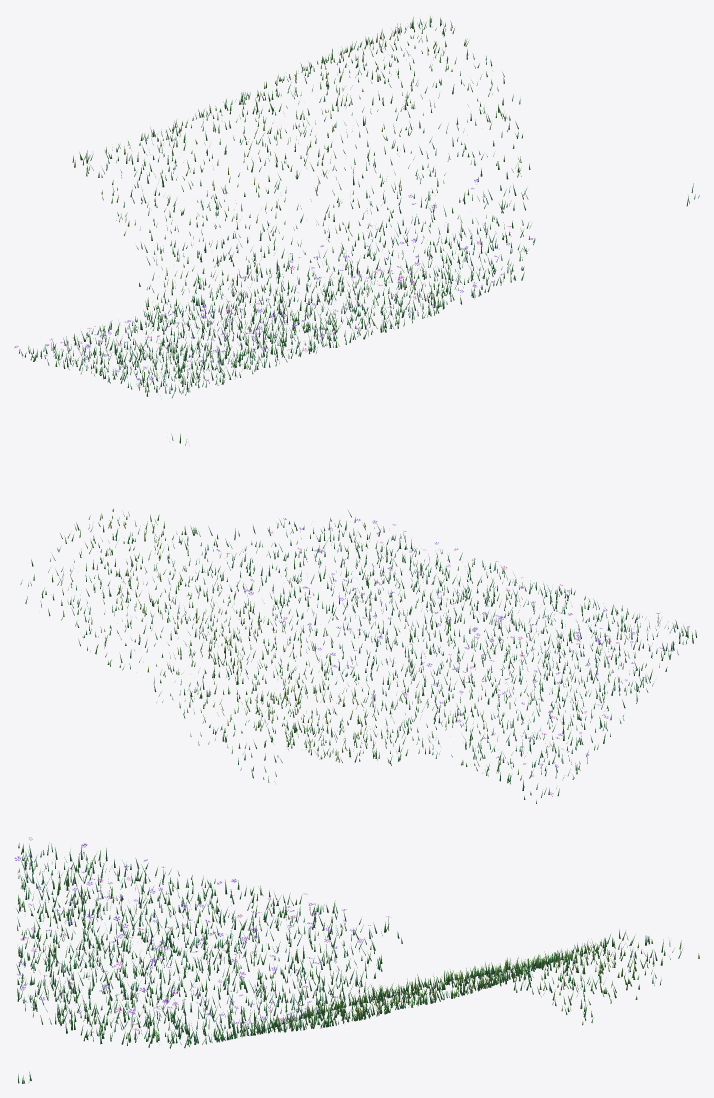
3 renders of one model, top to bottom at view 1: azimuth 30°, elevation 25°; view 2: azimuth 150°, elevation 25°; view 3: azimuth 270°, elevation 25°, orthographic. The views are drawn at different scales.
Parts seen in each view (by area): view 1: gc_34; view 2: gc_34; view 3: gc_34.
Part boxes in pixels (x1=…): gc_34: x1=14, y1=16, x2=699, y2=397; gc_34: x1=20, y1=433, x2=696, y2=803; gc_34: x1=14, y1=837, x2=699, y2=1083.
Size of the model in its own units: 18.17 by 6.22 by 16.
Materials: 1 (1 with a texture image).
